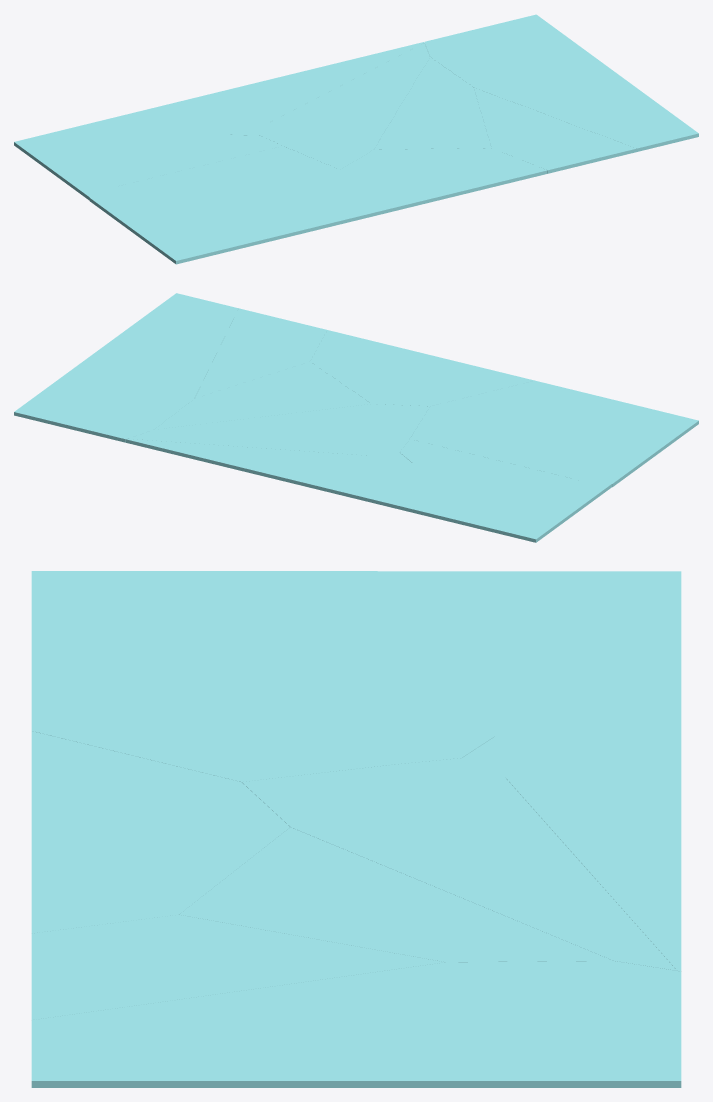
Rendered from brokenGlass3.fbx.
3 views of the same model, one above another, from view 1: azimuth 30°, elevation 25°; view 2: azimuth 150°, elevation 25°; view 3: azimuth 270°, elevation 25° (orthographic). The views are drawn at different scales.
Parts seen in each view (by area): view 1: Glass_cell.002, Glass_cell.005, Glass_cell.009, Glass_cell.004, Glass_cell.003, Glass_cell.008, Glass_cell, Glass_cell.006, Glass_cell.001, Glass_cell.007; view 2: Glass_cell.002, Glass_cell.005, Glass_cell.009, Glass_cell.003, Glass_cell.004, Glass_cell.008, Glass_cell, Glass_cell.006, Glass_cell.001, Glass_cell.007; view 3: Glass_cell.002, Glass_cell.005, Glass_cell.009, Glass_cell.003, Glass_cell.004, Glass_cell.008, Glass_cell, Glass_cell.006, Glass_cell.001, Glass_cell.007.
Part boxes in pixels (x1,y1,x2,y2): Glass_cell.002: [89, 146, 339, 264]; Glass_cell.005: [424, 14, 698, 151]; Glass_cell.009: [14, 108, 230, 200]; Glass_cell.004: [340, 148, 547, 224]; Glass_cell.003: [260, 43, 429, 169]; Glass_cell.008: [374, 57, 491, 149]; Glass_cell: [473, 87, 636, 173]; Glass_cell.006: [225, 42, 424, 122]; Glass_cell.001: [151, 90, 268, 135]; Glass_cell.007: [115, 135, 282, 186]; Glass_cell.002: [410, 380, 698, 487]; Glass_cell.005: [14, 293, 238, 442]; Glass_cell.009: [399, 464, 611, 542]; Glass_cell.003: [128, 404, 429, 455]; Glass_cell.004: [310, 330, 534, 406]; Glass_cell.008: [154, 362, 371, 429]; Glass_cell: [194, 308, 327, 398]; Glass_cell.006: [126, 439, 368, 491]; Glass_cell.001: [325, 452, 412, 509]; Glass_cell.007: [400, 439, 578, 480]; Glass_cell.002: [31, 571, 395, 781]; Glass_cell.005: [31, 961, 681, 1087]; Glass_cell.009: [378, 571, 681, 736]; Glass_cell.003: [242, 758, 676, 970]; Glass_cell.004: [31, 731, 289, 933]; Glass_cell.008: [179, 827, 613, 962]; Glass_cell: [31, 914, 444, 1019]; Glass_cell.006: [505, 777, 681, 971]; Glass_cell.001: [462, 704, 681, 776]; Glass_cell.007: [396, 599, 493, 764].
Bounding box in the file's own units: 1300 × 8.27 × 700.
